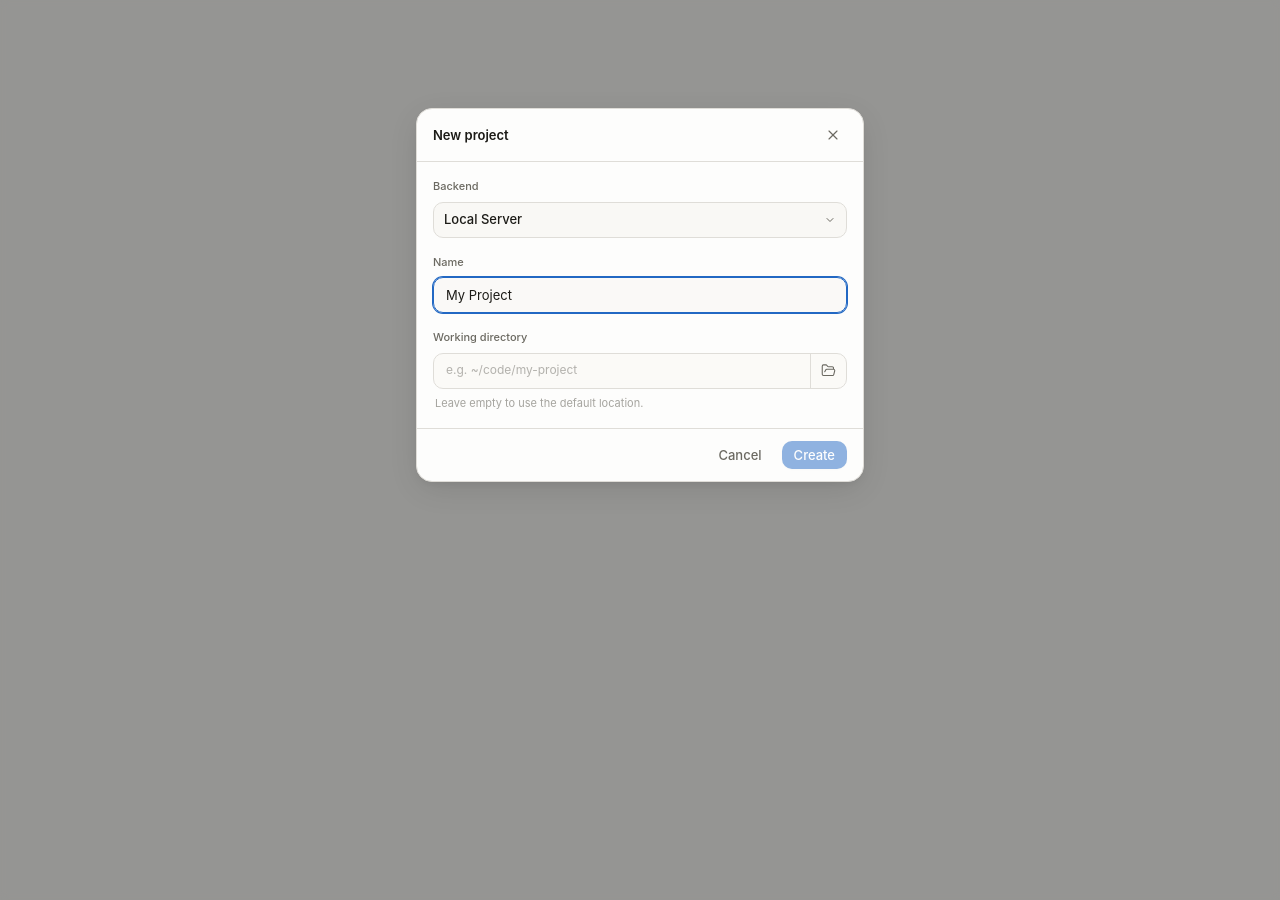
Test case: NewProjectModal › shows the backend picker with an option per backend when several are online
Click the button with aria-label "Create in backend": (483, 219) [433,202,847,238]
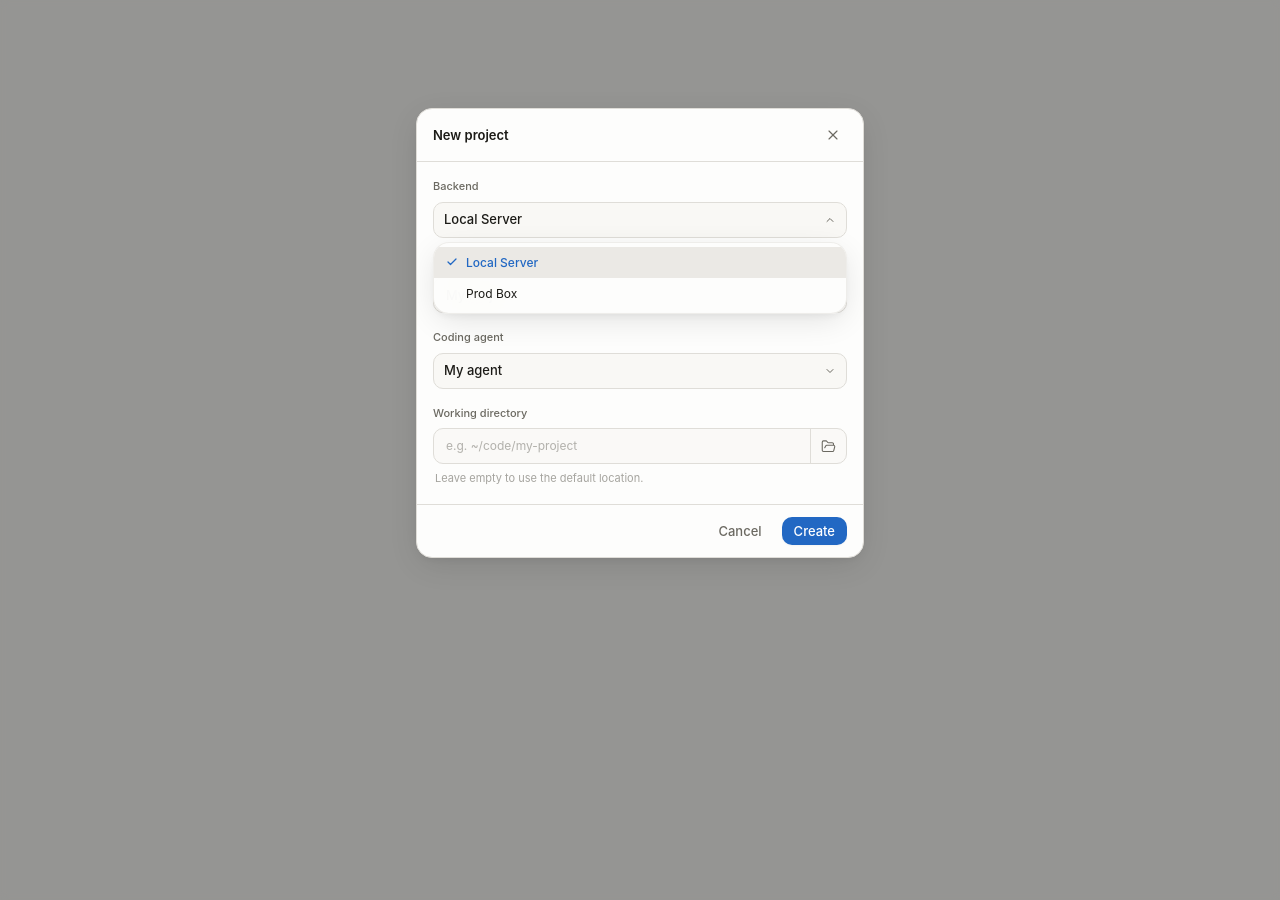
Expected: the option "Local Server" is shown, [434,247,846,278]
Expected: the option "Prod Box" is shown, [434,278,846,309]
